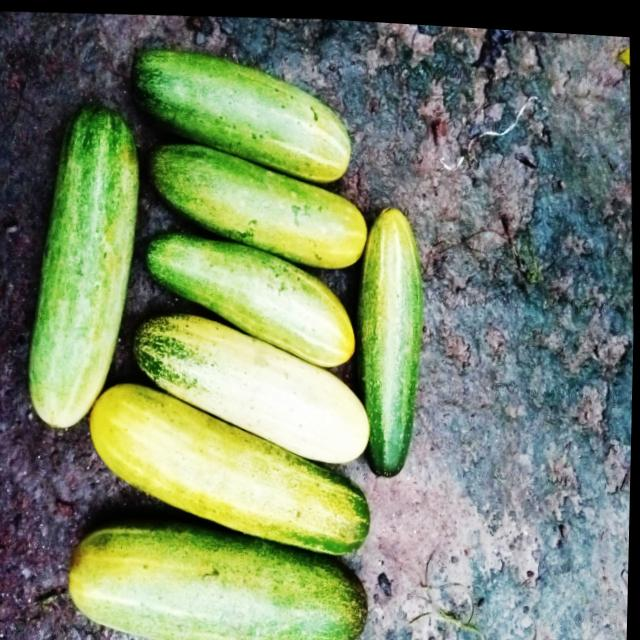Fresh-Cucumber: (84, 365, 376, 564), (17, 96, 149, 439), (130, 300, 376, 471), (64, 512, 375, 640), (126, 32, 356, 189), (146, 127, 373, 277), (141, 219, 359, 373), (352, 197, 432, 481)
